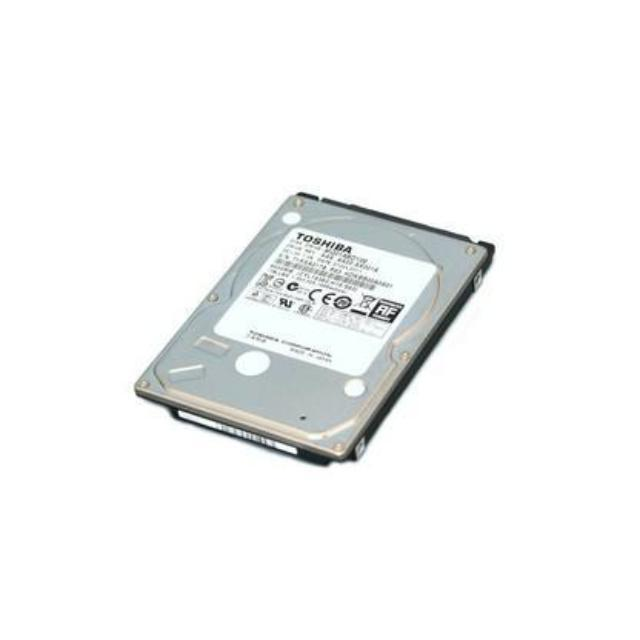DISK: (138, 186, 502, 462)
